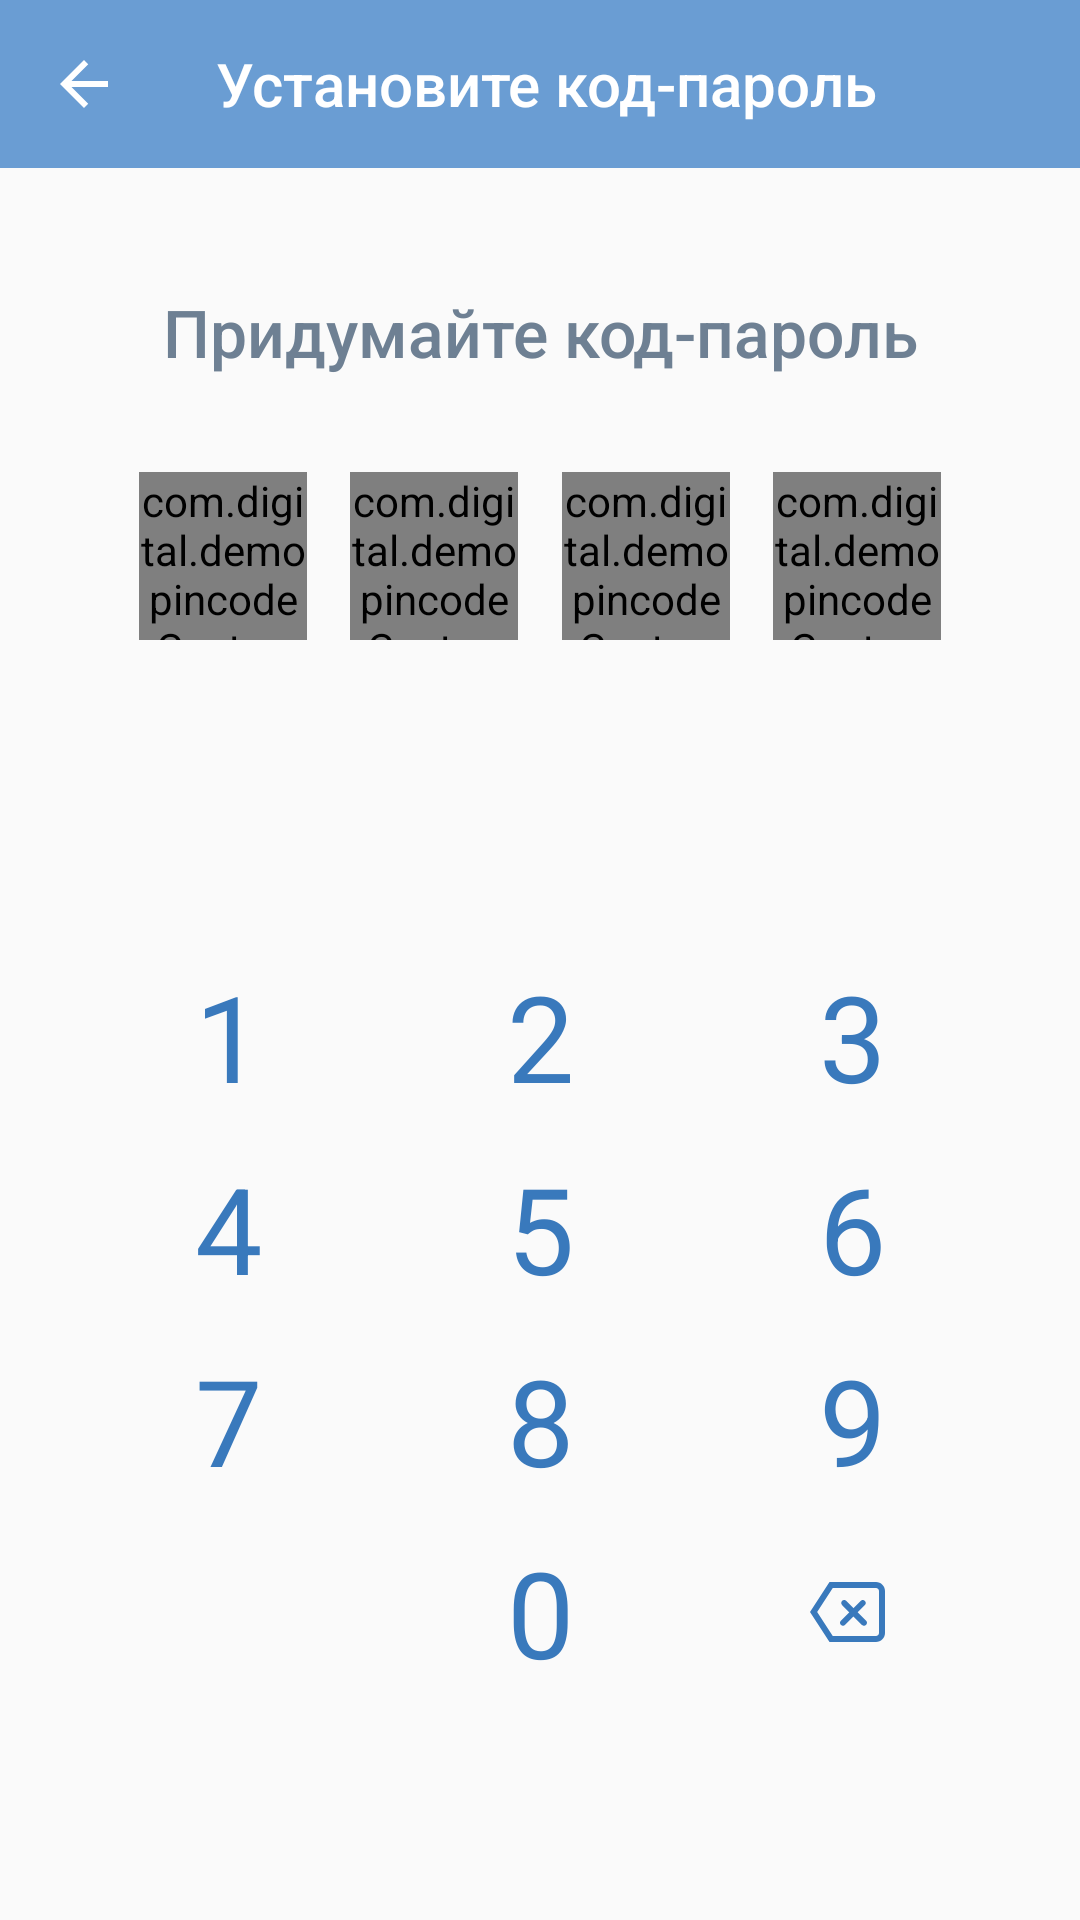

Where to tap for icons on this 1080w x 1920h app screen, as (x,y):
backspace: (847,1612)
